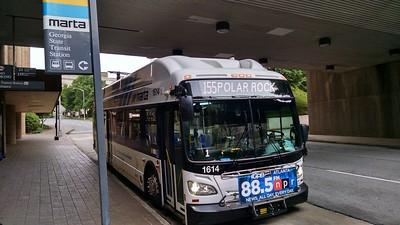bus: (93, 54, 307, 220)
